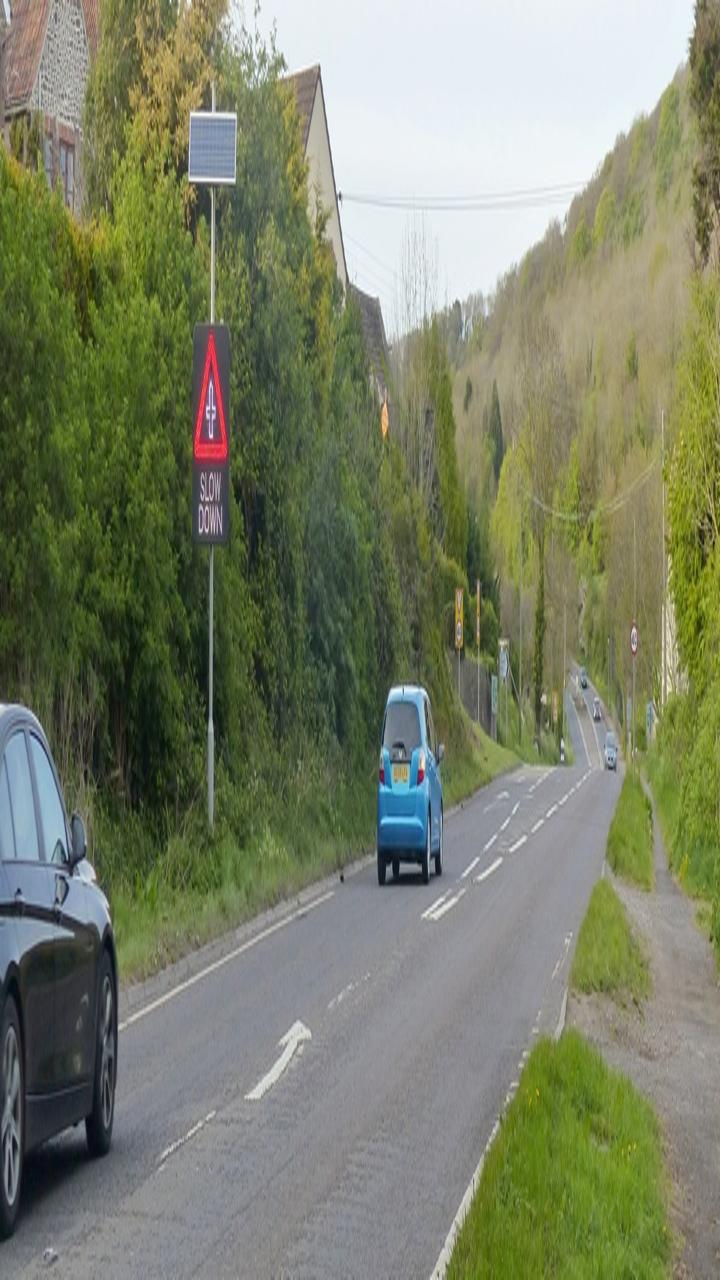Traffic sign: (178, 327, 244, 553)
vehicle: (1, 699, 123, 1221), (363, 672, 464, 880), (600, 731, 626, 771)
